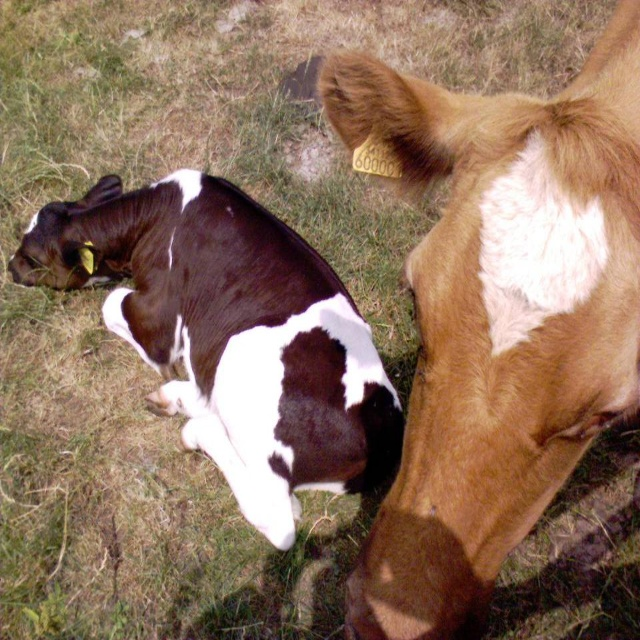Cattle: (317, 0, 640, 640), (7, 169, 404, 551)
